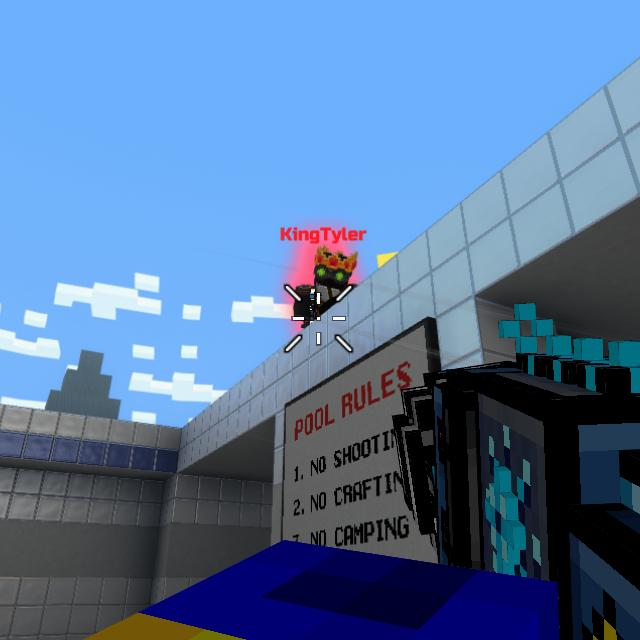Enemy: (293, 251, 358, 332)
